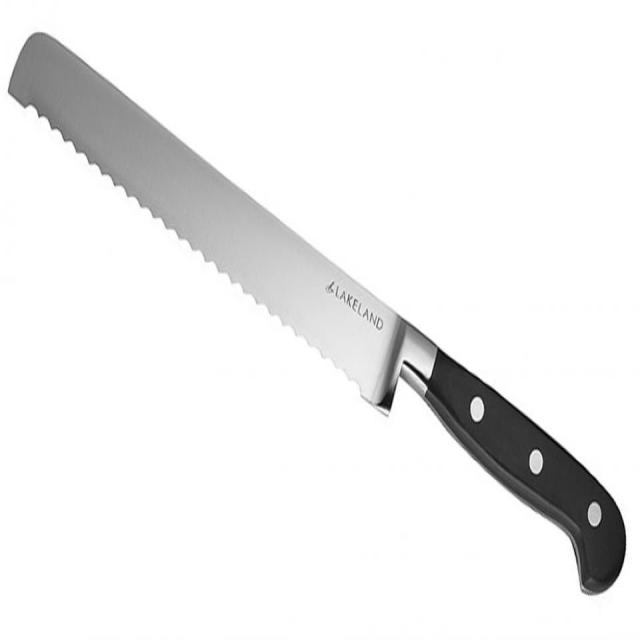Knife: (9, 32, 625, 594)
